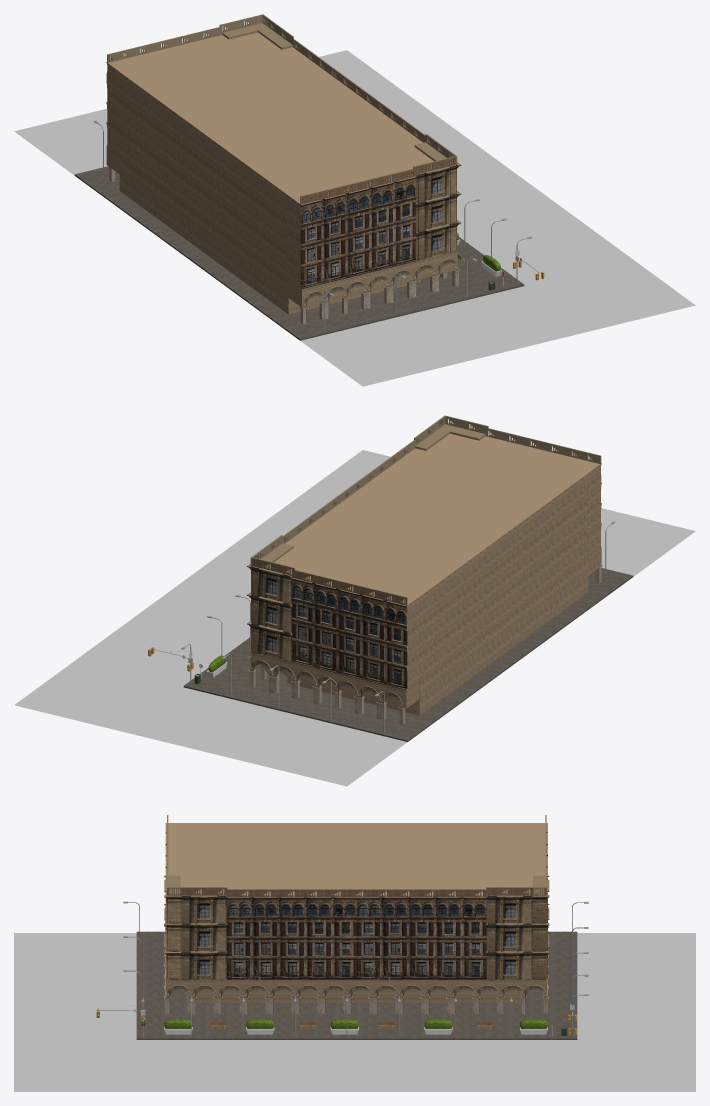
Rendered from EdificioDeGobierno.fbx.
The picture shows the model from 3 angles, top to bottom: view 1: azimuth 30°, elevation 25°; view 2: azimuth 150°, elevation 25°; view 3: azimuth 270°, elevation 25°; orthographic projection. The views are drawn at different scales.
Visible parts, largest first — view 1: Cube.059, Cube.043, Cube.040, Cube.042, Cube.044, Cube, Cube.005, Cube.008, Cube.031, Cube.032, Cube.057; view 2: Cube.059, Cube.043, Cube.042, Cube.040, Cube.041, Cube.029, Cube.027, Cube.028, Cube, Cube.005, Cube.058; view 3: Cube.059, Cube.043, Cube, Cube.005, Cube.040, Cube.004, Cube.039, Cube.042, Cube.001, Cube.017, Cube.030, Cube.006 (+9 smaller).
Part boxes in pixels (left/top/right/bottom): Cube.059: left=14, top=50, right=695, bottom=386; Cube.043: left=120, top=32, right=433, bottom=288; Cube.040: left=106, top=147, right=457, bottom=314; Cube.042: left=106, top=35, right=235, bottom=155; Cube.044: left=342, top=259, right=459, bottom=314; Cube: left=272, top=47, right=358, bottom=101; Cube.005: left=342, top=96, right=422, bottom=149; Cube.008: left=412, top=161, right=461, bottom=203; Cube.031: left=415, top=191, right=461, bottom=231; Cube.032: left=415, top=220, right=460, bottom=260; Cube.057: left=300, top=286, right=348, bottom=324; Cube.059: left=14, top=450, right=695, bottom=786; Cube.043: left=274, top=433, right=601, bottom=679; Cube.042: left=291, top=568, right=420, bottom=690; Cube.040: left=250, top=548, right=601, bottom=715; Cube.041: left=248, top=660, right=358, bottom=713; Cube.029: left=247, top=563, right=292, bottom=604; Cube.027: left=247, top=592, right=292, bottom=633; Cube.028: left=247, top=621, right=292, bottom=661; Cube: left=285, top=497, right=371, bottom=549; Cube.005: left=349, top=448, right=437, bottom=499; Cube.058: left=358, top=686, right=405, bottom=724; Cube.059: left=14, top=931, right=695, bottom=1091; Cube.043: left=165, top=823, right=532, bottom=891; Cube: left=356, top=886, right=486, bottom=979; Cube.005: left=227, top=886, right=356, bottom=979; Cube.040: left=165, top=979, right=547, bottom=1002; Cube.004: left=295, top=985, right=425, bottom=1014; Cube.039: left=165, top=985, right=295, bottom=1014; Cube.042: left=519, top=823, right=547, bottom=877; Cube.001: left=424, top=985, right=548, bottom=1014; Cube.017: left=486, top=889, right=532, bottom=924; Cube.030: left=180, top=889, right=227, bottom=924; Cube.006: left=180, top=951, right=227, bottom=980.
Bounding box in the file's own units: 5802 × 2212 × 10526.
